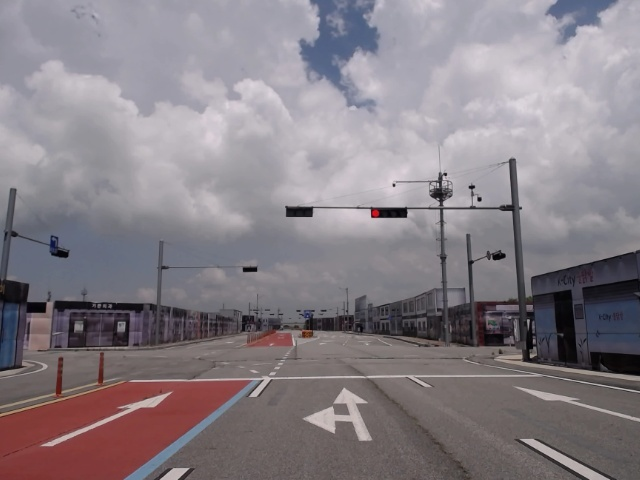red_4: (371, 209, 407, 219)
